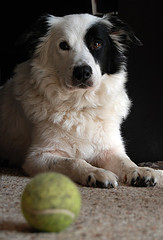tennis ball: (20, 171, 82, 234)
